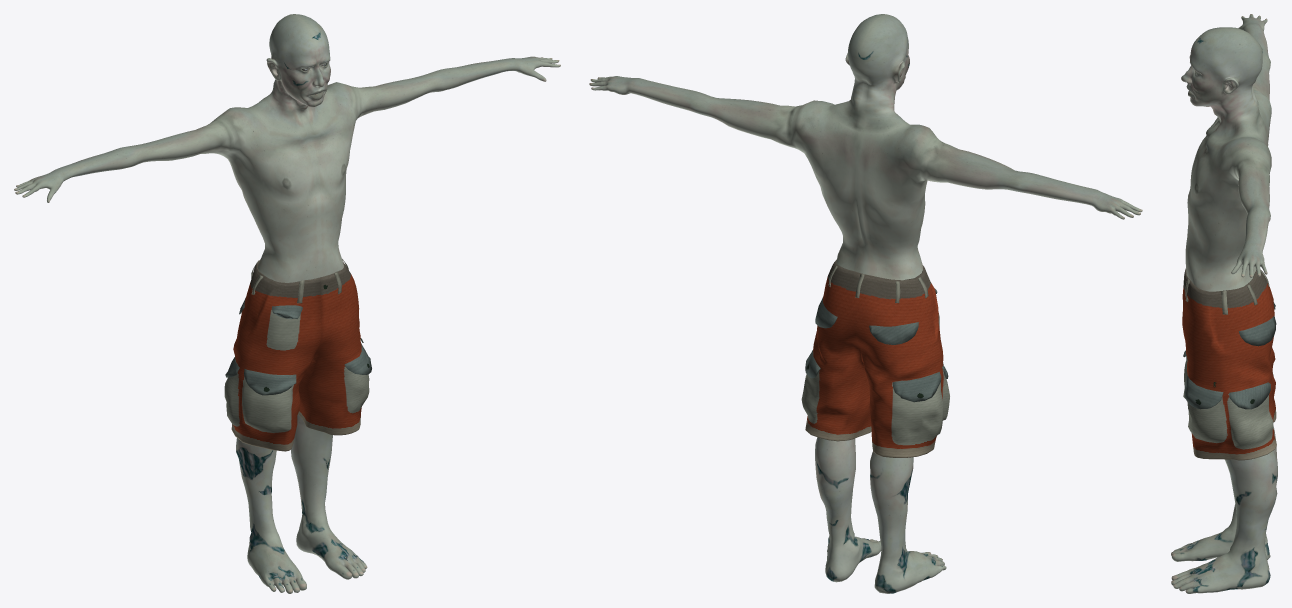
Rendered from healthy.obj.
3 renders of one model, left to right at view 1: azimuth 30°, elevation 25°; view 2: azimuth 150°, elevation 25°; view 3: azimuth 270°, elevation 25°, orthographic. The views are drawn at different scales.
Parts seen in each view (by area): view 1: Body, Bottoms; view 2: Body, Bottoms; view 3: Body, Bottoms.
Boxes of the visible parts, <box> form: Body: <box>14,14,560,593</box>; Bottoms: <box>224,259,371,451</box>; Body: <box>589,14,1142,593</box>; Bottoms: <box>801,259,949,457</box>; Body: <box>1171,14,1277,593</box>; Bottoms: <box>1182,268,1276,460</box>.
Bounding box in the file's own units: 182 × 176 × 31.32.
Materials: 2 (2 with a texture image).
